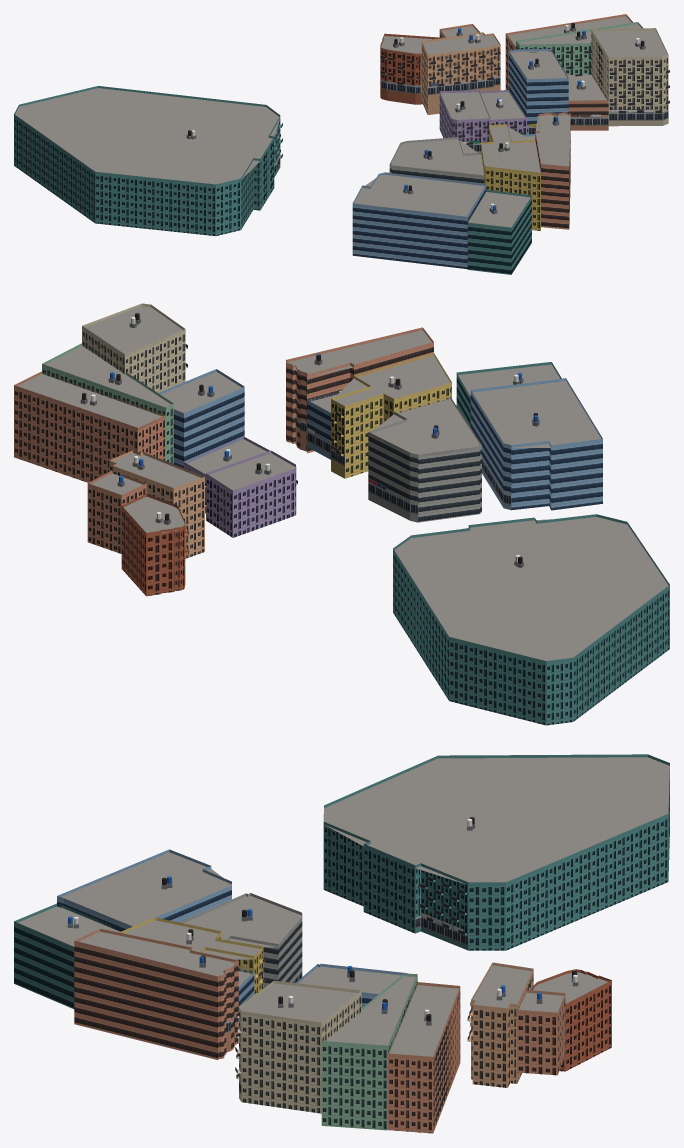
The model's file is session-road-buildings-1.c014aa64.glb.
3 views of the same model, one above another, from view 1: azimuth 30°, elevation 25°; view 2: azimuth 150°, elevation 25°; view 3: azimuth 270°, elevation 25° (orthographic). The views are drawn at different scales.
Bounding box in the file's own units: 231 × 44.42 × 188.
Materials: 6 (4 with a texture image).
